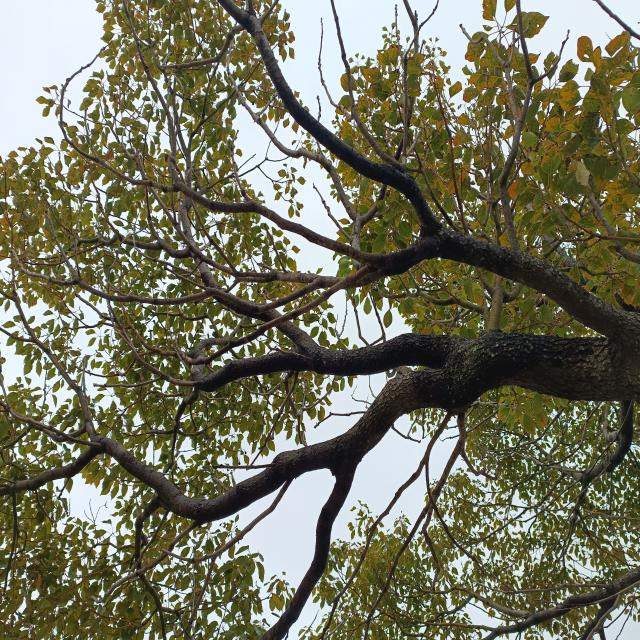Branch: (391, 228, 634, 335), (425, 312, 640, 415), (325, 366, 451, 487), (298, 333, 438, 376)
Twig: (220, 1, 438, 235), (90, 155, 393, 267), (89, 436, 329, 524), (257, 483, 351, 640), (188, 236, 306, 345), (11, 290, 95, 438), (185, 243, 397, 291), (187, 352, 305, 395), (0, 447, 97, 497), (133, 500, 166, 639), (109, 205, 186, 258), (8, 404, 86, 442), (168, 392, 200, 466), (177, 206, 190, 243)
